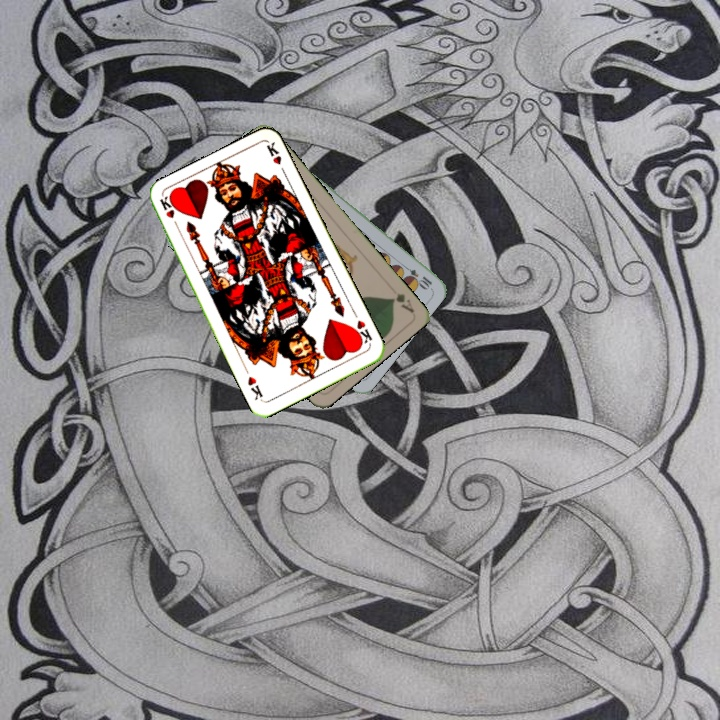E10: (398, 261, 435, 291)
GA: (387, 289, 416, 315)
HK: (156, 193, 182, 232), (349, 316, 375, 348)
